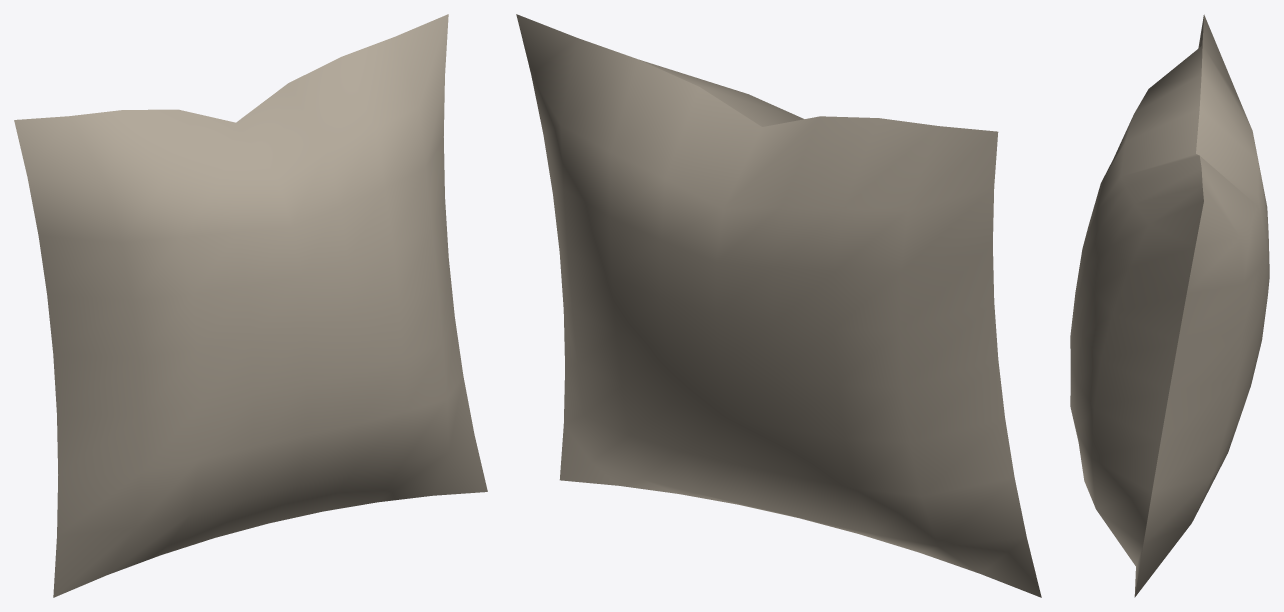
The model's file is decor_c_cushion_small.gltf.
The picture shows the model from 3 angles, left to right: view 1: azimuth 30°, elevation 25°; view 2: azimuth 150°, elevation 25°; view 3: azimuth 270°, elevation 25°; orthographic projection. The views are drawn at different scales.
Parts seen in each view (by area): view 1: DecorC_CushionSmall_Oat_NoCollide; view 2: DecorC_CushionSmall_Oat_NoCollide; view 3: DecorC_CushionSmall_Oat_NoCollide.
Boxes of the visible parts, x1=… form: DecorC_CushionSmall_Oat_NoCollide: x1=14, y1=14, x2=487, y2=597; DecorC_CushionSmall_Oat_NoCollide: x1=516, y1=14, x2=1041, y2=597; DecorC_CushionSmall_Oat_NoCollide: x1=1070, y1=14, x2=1269, y2=597.
Bounding box in the file's own units: 0.42 × 0.4148 × 0.1892.
